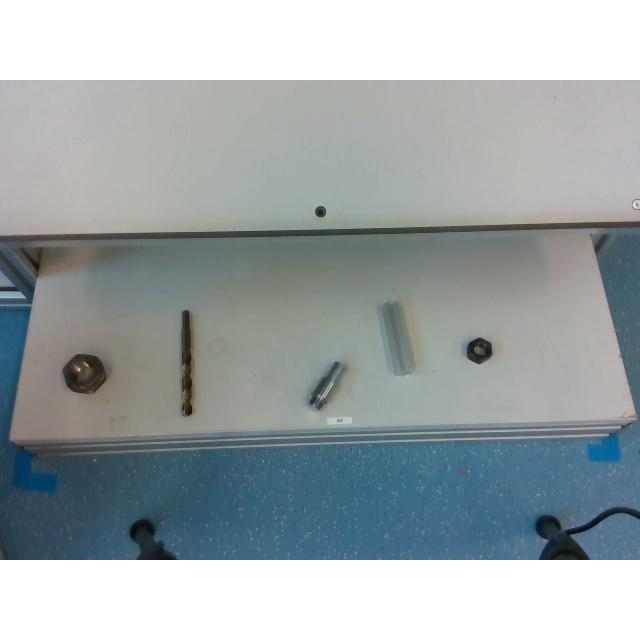Axis2: (310, 361, 344, 411)
Drill: (180, 310, 194, 414)
M20: (466, 337, 492, 363)
M30: (62, 354, 106, 392)
S40_40_G: (379, 300, 415, 374)
